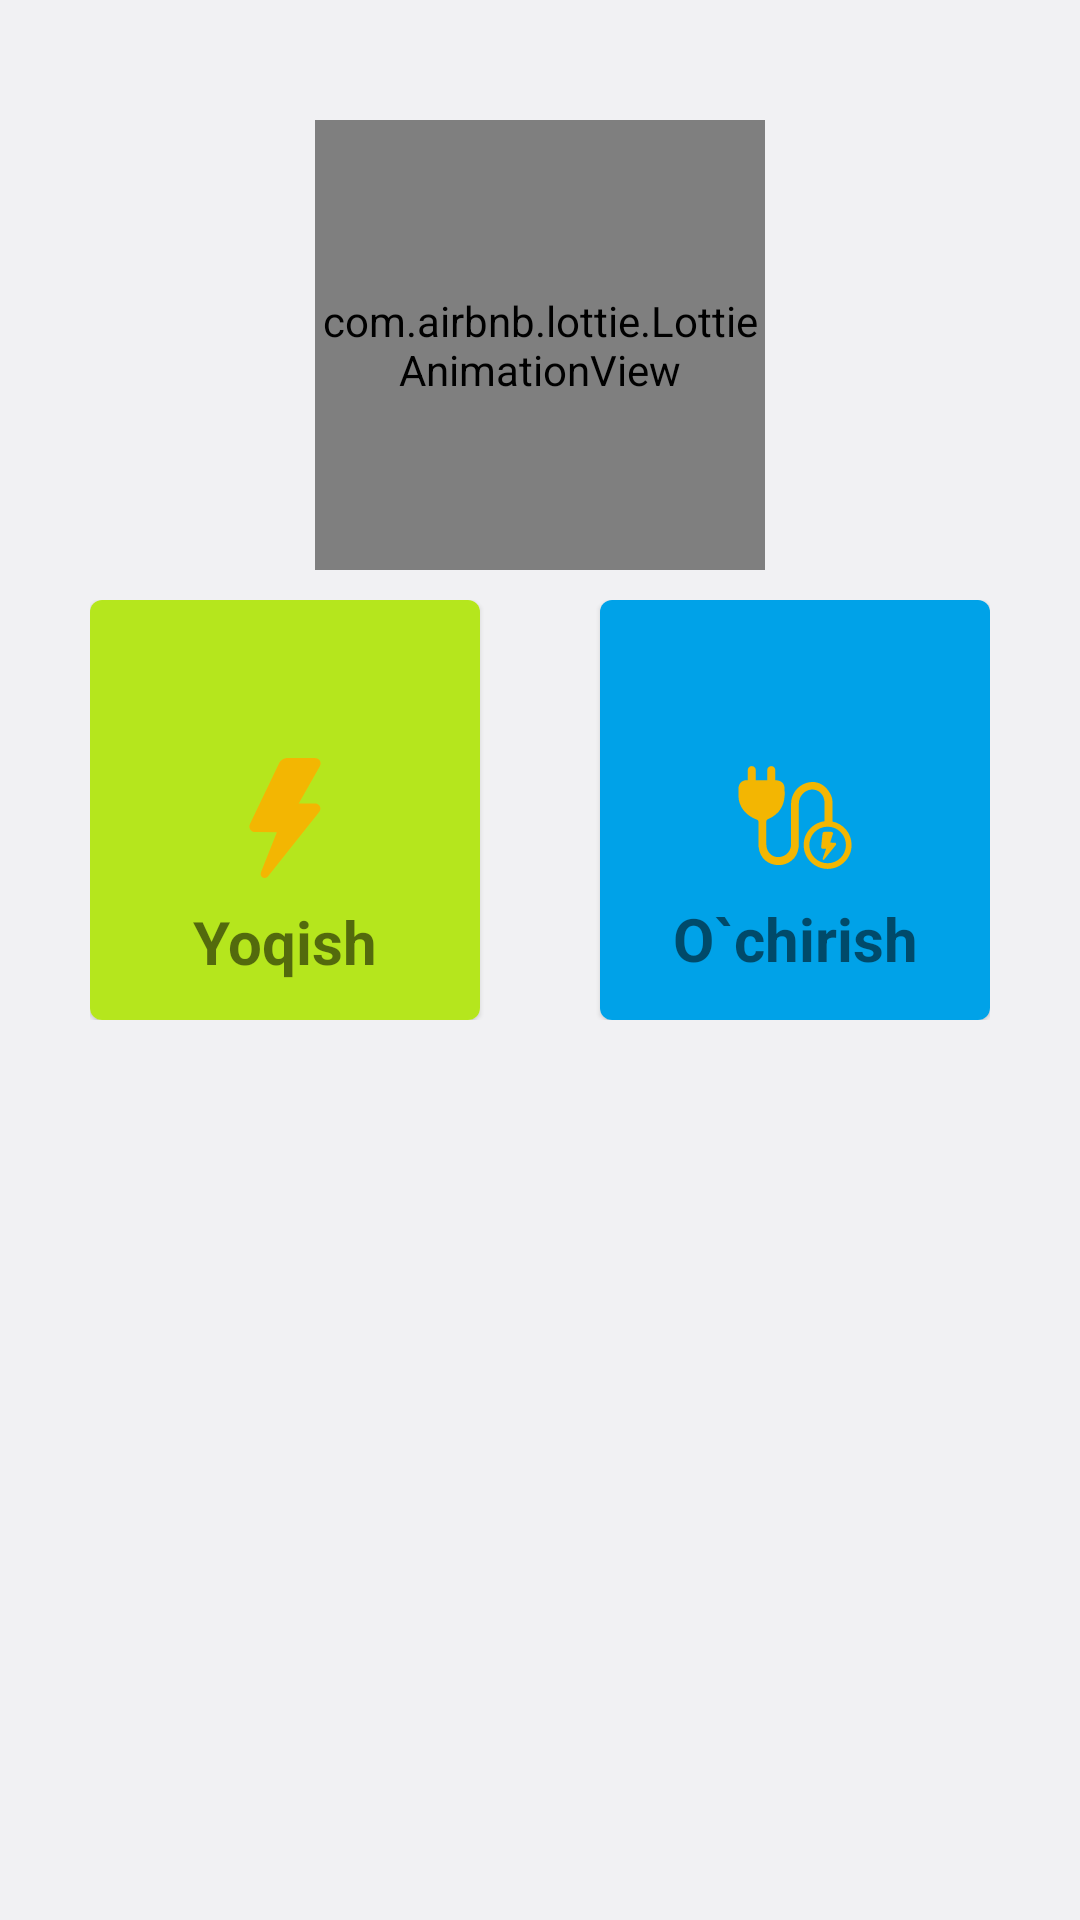

Icon click points for this 1080px x 1920px phone screenshot, format (x=x, y=y):
elector: (x=285, y=818)
